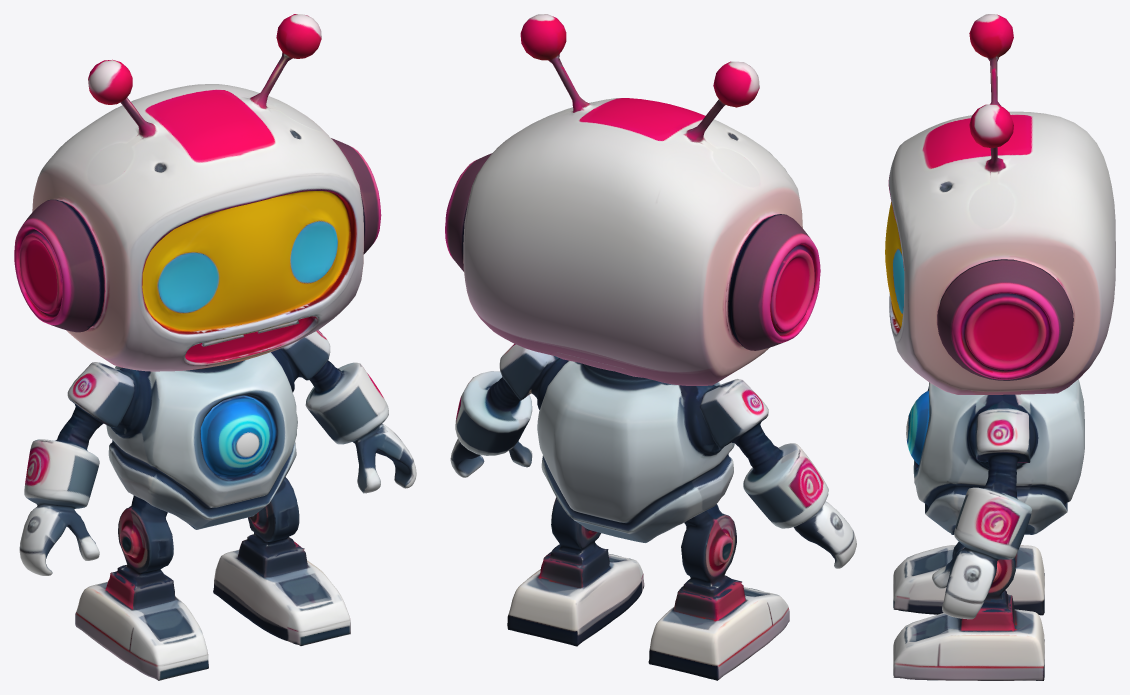
Rendered from cute__cartoon_robot.glb.
The picture shows the model from 3 angles, left to right: view 1: azimuth 30°, elevation 25°; view 2: azimuth 150°, elevation 25°; view 3: azimuth 270°, elevation 25°; orthographic projection. The views are drawn at different scales.
Parts seen in each view (by area): view 1: model; view 2: model; view 3: model.
Boxes of the visible parts, bbox=[...] form: model: bbox=[14, 14, 416, 680]; model: bbox=[445, 14, 856, 680]; model: bbox=[885, 14, 1115, 680].
Bounding box in the file's own units: 2.76 × 3.99 × 1.46.
Materials: 1 (1 with a texture image).
